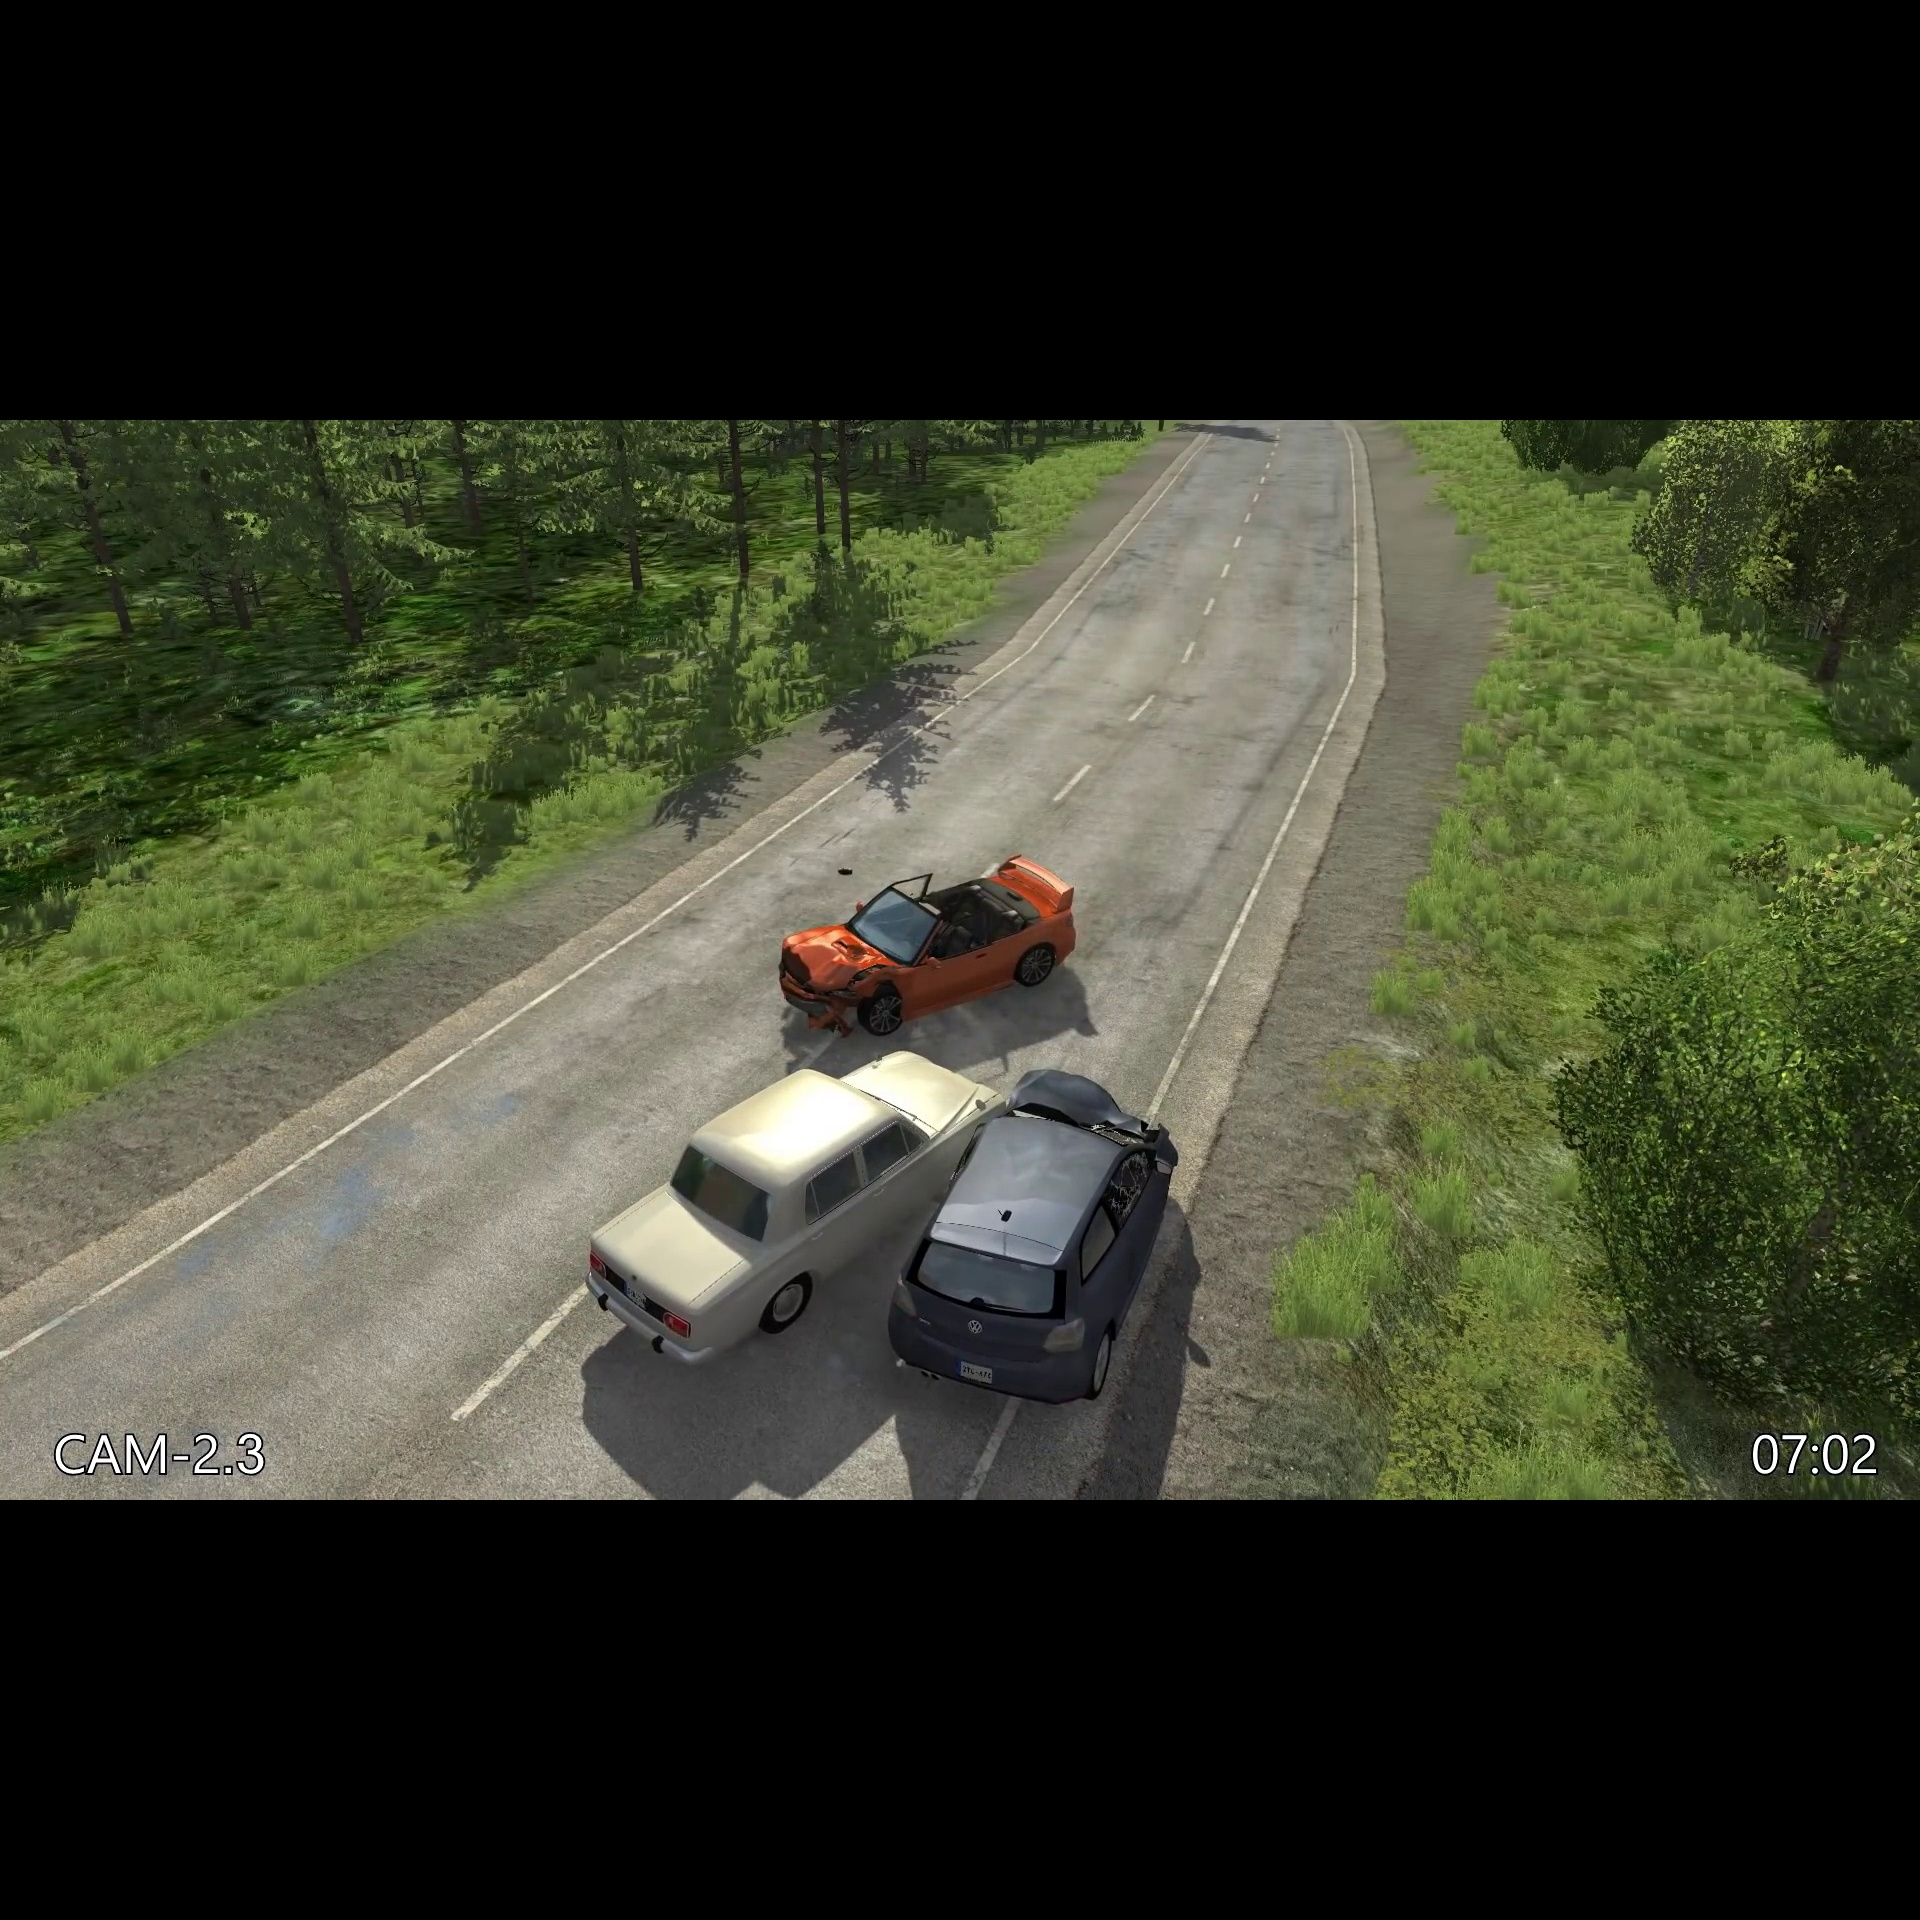vehicle: (580, 1036, 1016, 1371), (879, 1053, 1187, 1414), (768, 839, 1088, 1050)
